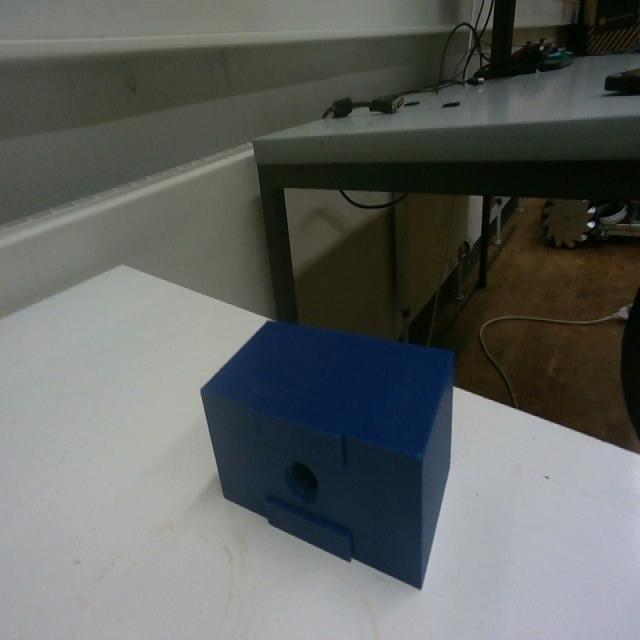Blue Cuboid: (198, 313, 458, 591)
